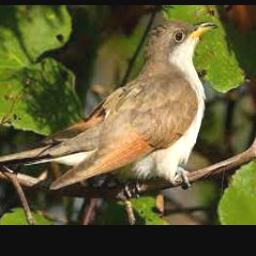Cuckoo: (26, 21, 217, 189)
